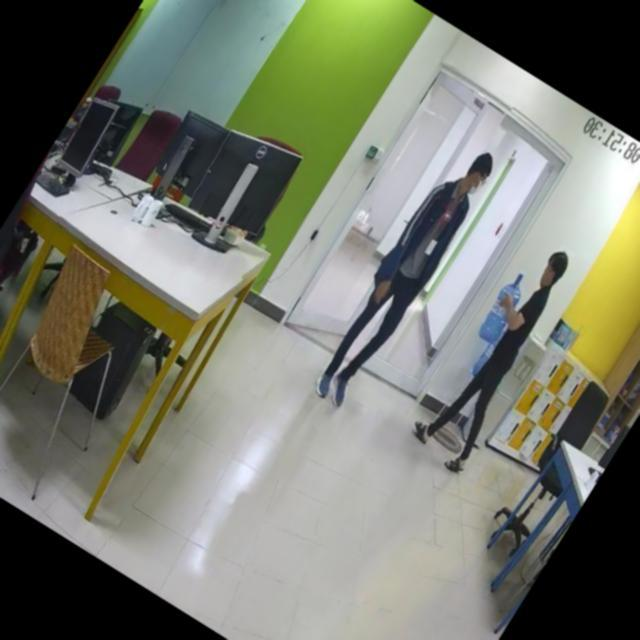person: (302, 133, 505, 415), (407, 235, 584, 470)
